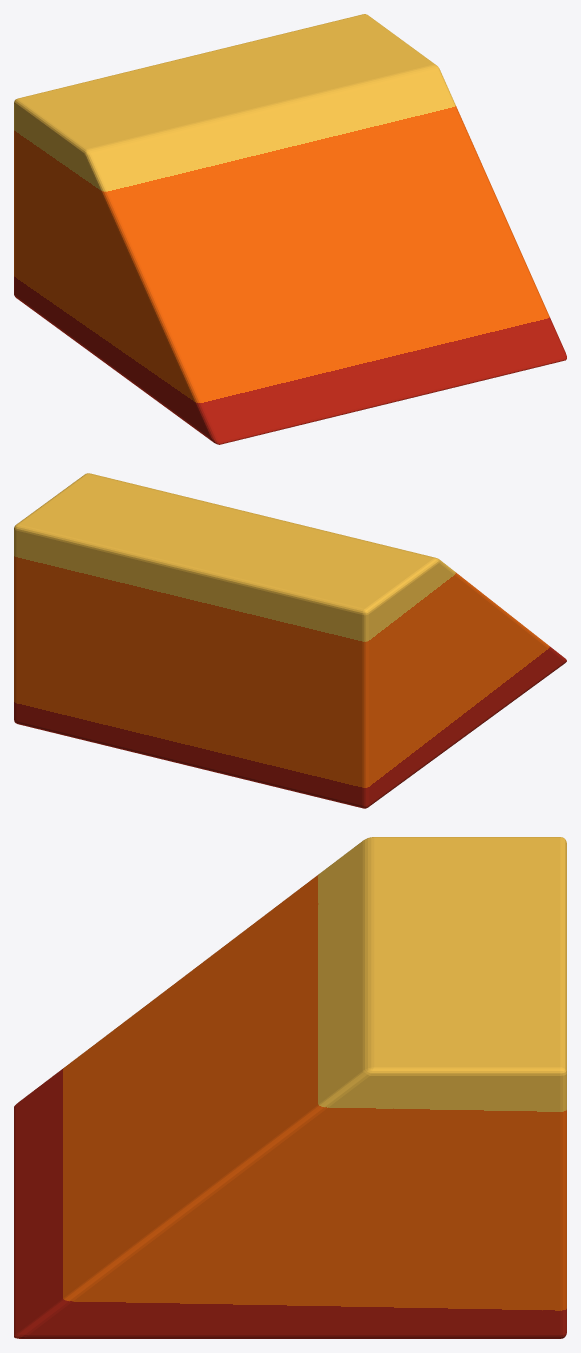
File: ramp3.fbx
The picture shows the model from 3 angles, top to bottom: view 1: azimuth 30°, elevation 25°; view 2: azimuth 150°, elevation 25°; view 3: azimuth 270°, elevation 25°; orthographic projection. The views are drawn at different scales.
Parts seen in each view (by area): view 1: Cube.007; view 2: Cube.007; view 3: Cube.007.
Boxes of the visible parts, left/top/right/bottom form: Cube.007: left=14, top=14, right=566, bottom=444; Cube.007: left=14, top=473, right=566, bottom=808; Cube.007: left=14, top=837, right=566, bottom=1338.
Size of the model in its own units: 2087 by 1122 by 2074.
1 material, 1 textured.
